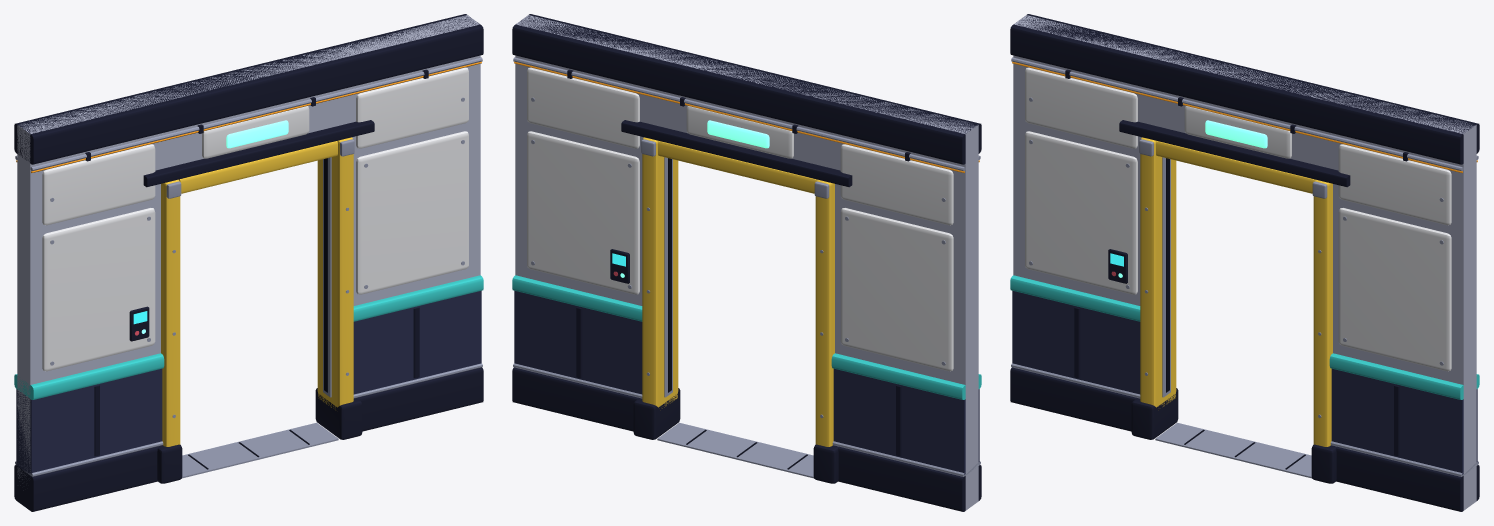
The model's file is wall_doorway.glb.
The picture shows the model from 3 angles, left to right: view 1: azimuth 30°, elevation 25°; view 2: azimuth 150°, elevation 25°; view 3: azimuth 330°, elevation 25°; orthographic projection.
Parts seen in each view (by area): view 1: Body; view 2: Body; view 3: Body.
Boxes of the visible parts, box(x1,y1,x2,y2) form: Body: box(14, 14, 483, 511); Body: box(512, 14, 981, 511); Body: box(1010, 14, 1479, 511).
Size of the model in its own units: 4 by 3.2 by 0.42.
